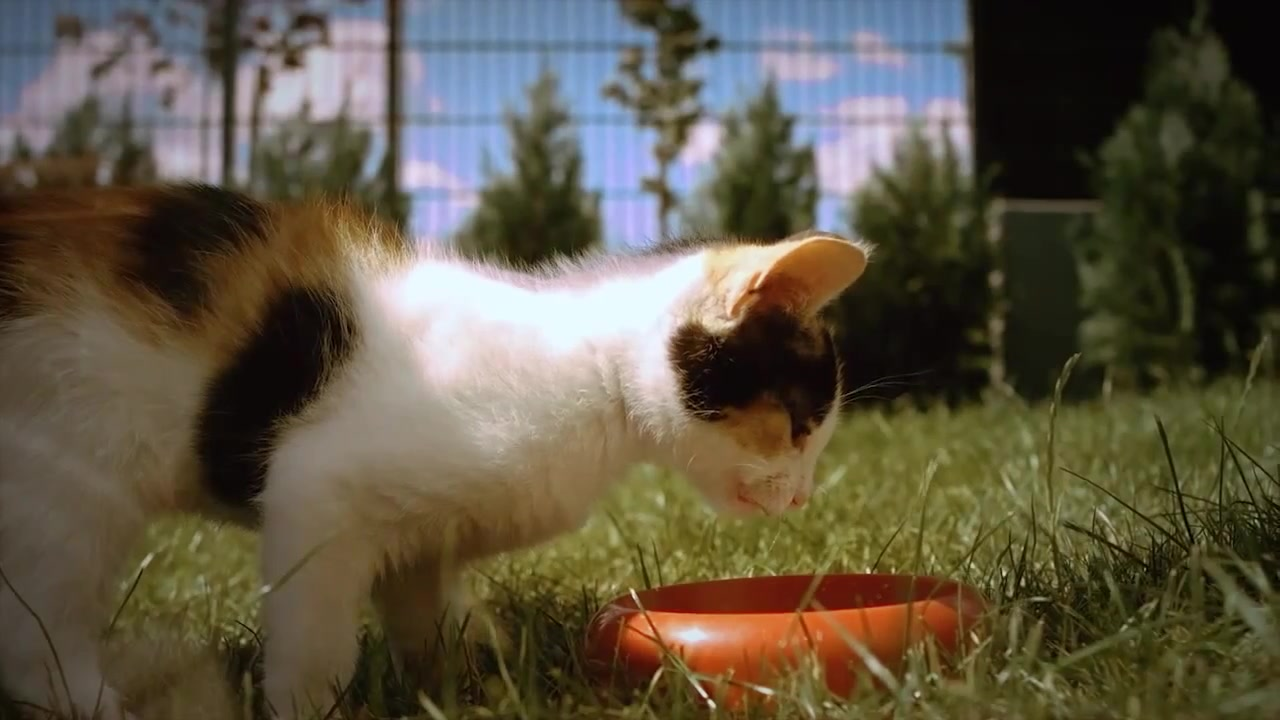cat: (5, 178, 876, 720)
